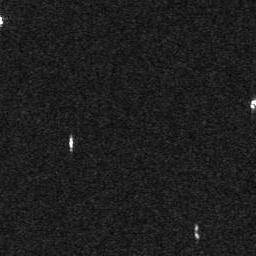ship: (69, 136, 74, 151)
